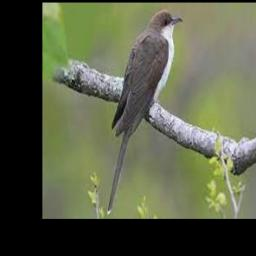Cuckoo: (106, 10, 182, 214)
